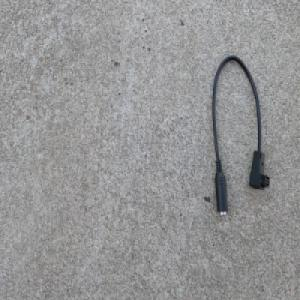Wire: (211, 53, 270, 216)
